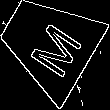M_NW: (16, 10, 80, 76)
